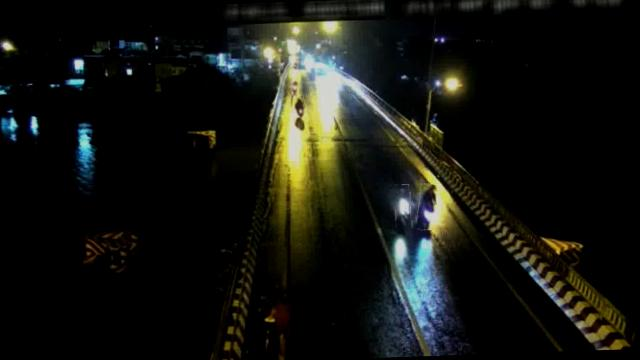Bike: (417, 184, 438, 231), (394, 184, 412, 228), (292, 96, 306, 118), (292, 82, 298, 94)
